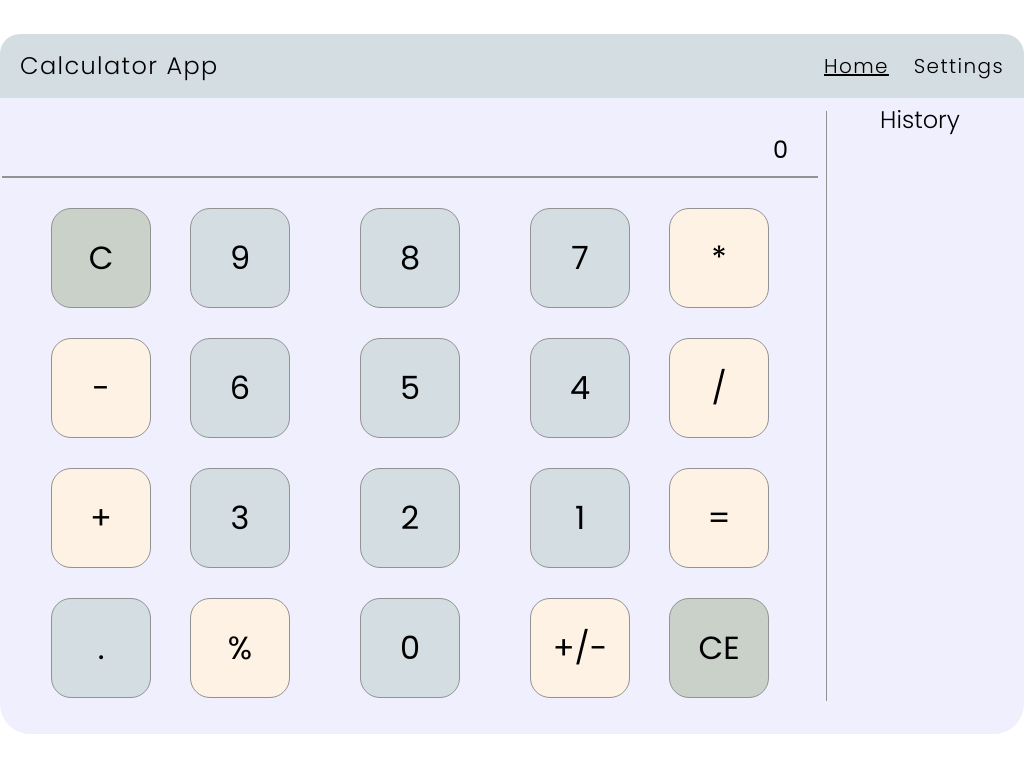
Scenario: Calculator app › should clear display value
Click the button "4". click: (580, 388)
box: [530, 338, 630, 438]
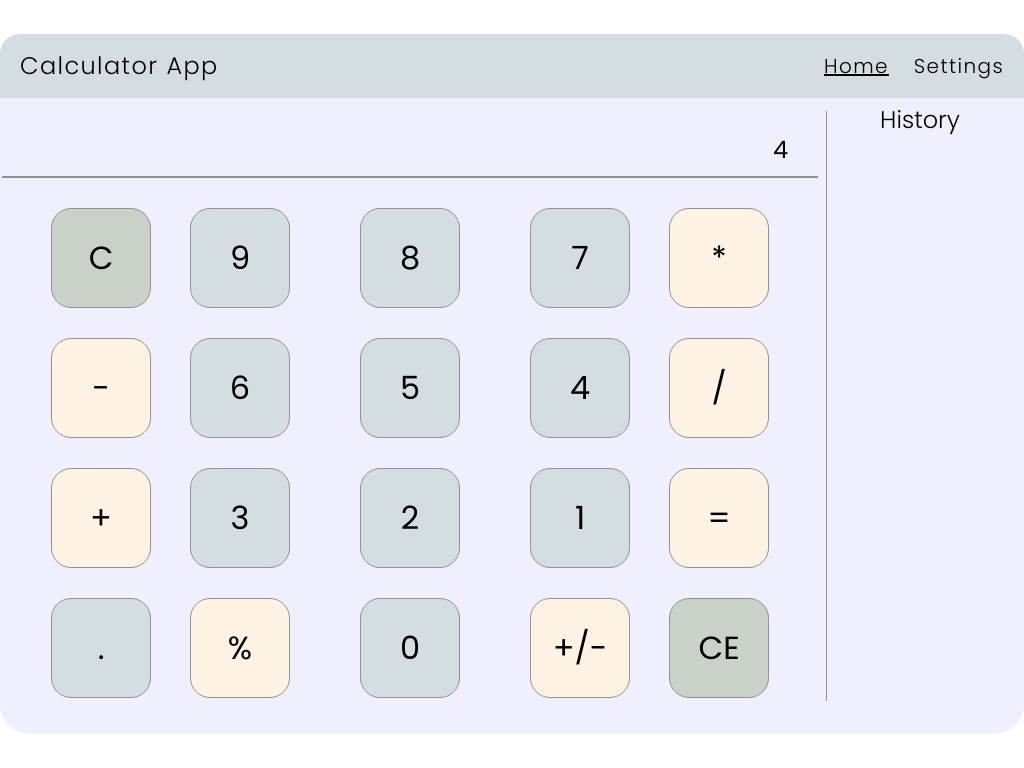
Expected: the text "4" is shown, [2, 98, 818, 178]
Click the button "8". click: (410, 258)
box: [360, 208, 460, 308]
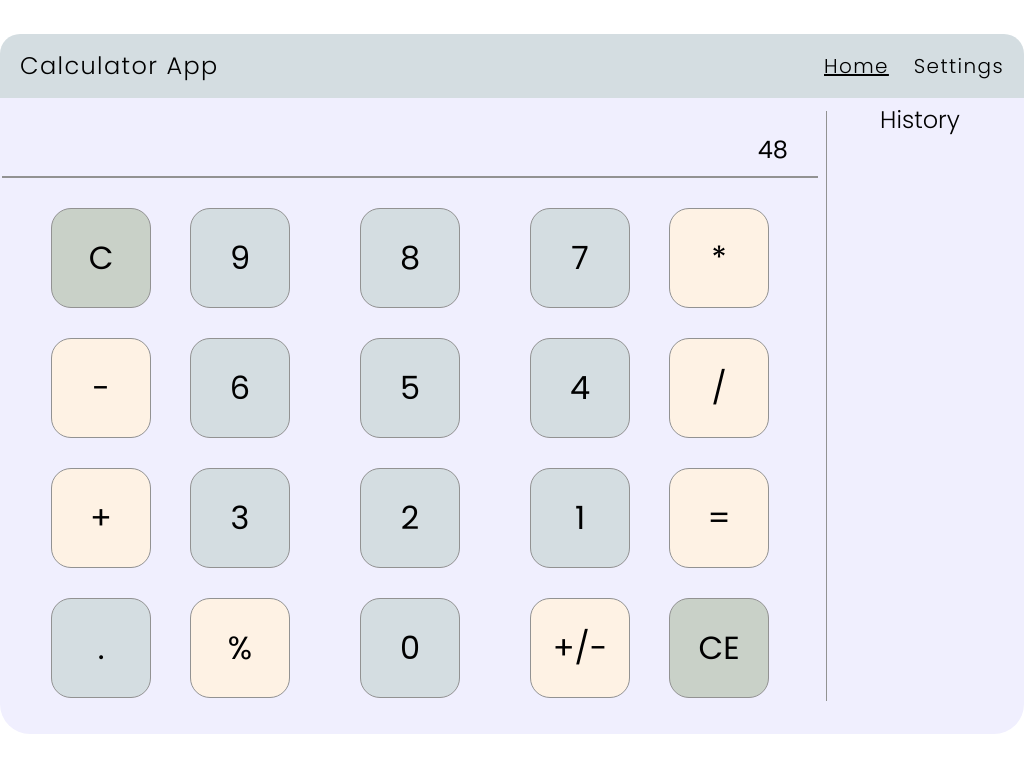
Expected: the text "48" is shown, [2, 98, 818, 178]
Click the button "CE". click: (719, 648)
box: [669, 598, 769, 698]
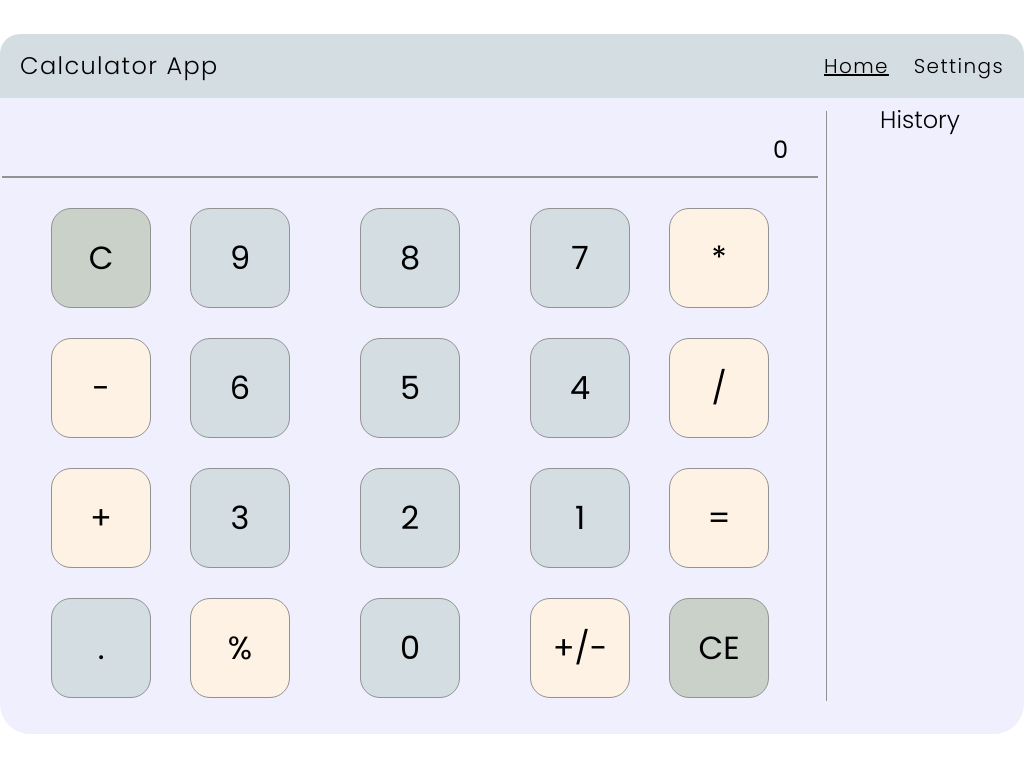
Expected: the text with id "display" reads "0", [2, 98, 818, 178]
